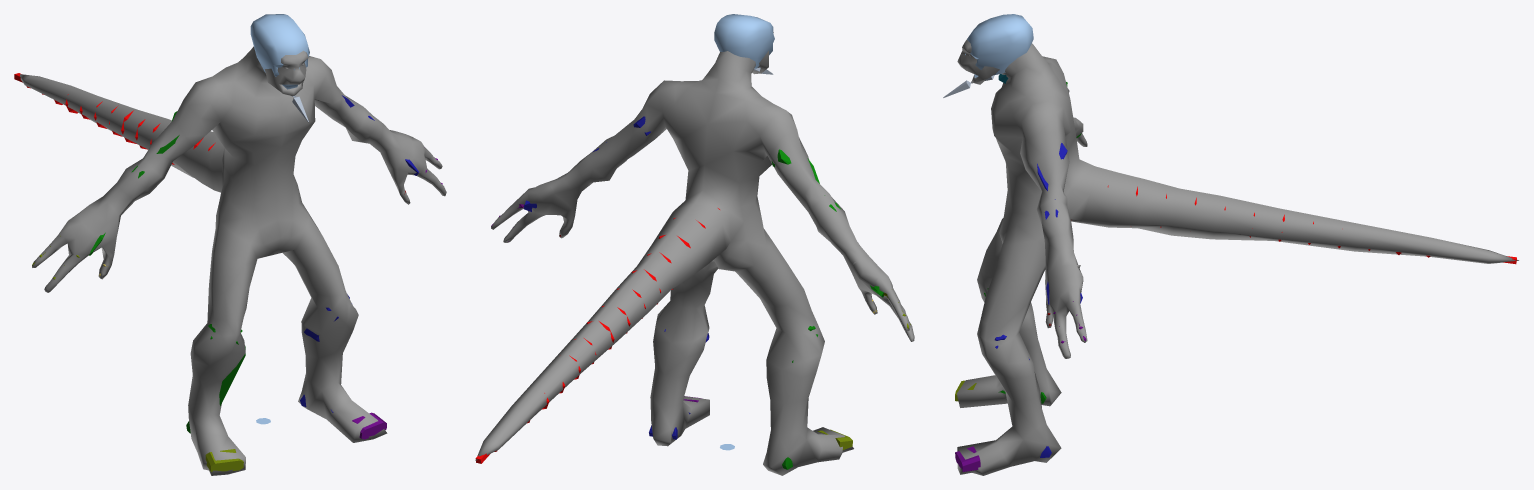
File: smallEnemy.obj
The picture shows the model from 3 angles, left to right: view 1: azimuth 30°, elevation 25°; view 2: azimuth 150°, elevation 25°; view 3: azimuth 270°, elevation 25°; orthographic projection. The views are drawn at different scales.
Parts seen in each view (by area): view 1: LOWmesh, LizardMan_Head, LizardMan_R_Toe0; view 2: LOWmesh, LizardMan_Head; view 3: LOWmesh, LizardMan_Head.
Boxes of the visible parts, <box> form: LOWmesh: <box>20,46,446,475</box>; LizardMan_Head: <box>250,14,309,89</box>; LizardMan_R_Toe0: <box>205,449,243,471</box>; LOWmesh: <box>475,32,914,475</box>; LizardMan_Head: <box>714,14,774,68</box>; LOWmesh: <box>957,39,1518,475</box>; LizardMan_Head: <box>965,14,1033,77</box>.
Bounding box in the file's own units: 17.59 × 17.27 × 21.7.
